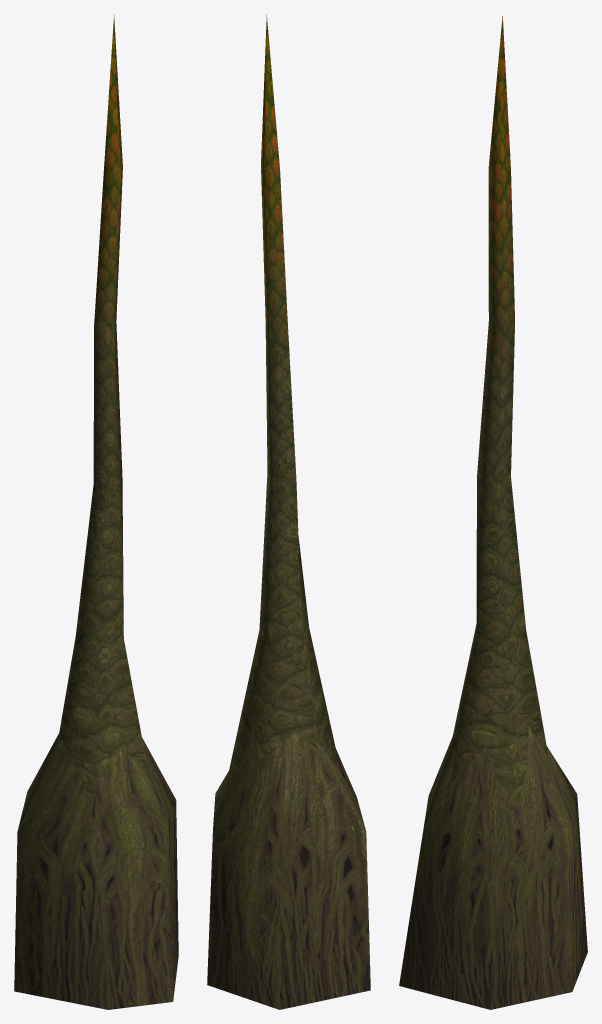
Rendered from phys_Plant4.fbx.
3 renders of one model, left to right at view 1: azimuth 30°, elevation 25°; view 2: azimuth 150°, elevation 25°; view 3: azimuth 270°, elevation 25°, orthographic.
Parts seen in each view (by area): view 1: polySurface176; view 2: polySurface176; view 3: polySurface176.
Part boxes in pixels (x1,y1,x2,y2): polySurface176: (14, 15, 178, 1009); polySurface176: (207, 14, 370, 1009); polySurface176: (399, 16, 587, 1009).
Bounding box in the file's own units: 78.64 × 446 × 78.85.
